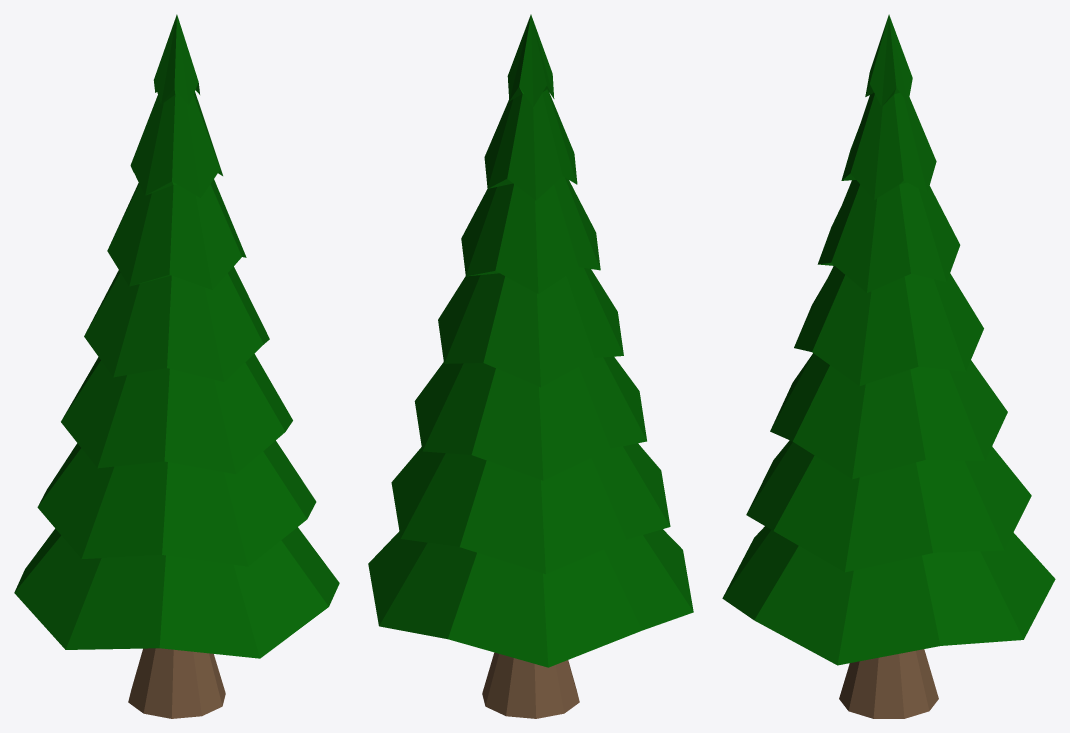
The model's file is low poly tree three.fbx.
3 views of the same model, side by side, from view 1: azimuth 30°, elevation 25°; view 2: azimuth 150°, elevation 25°; view 3: azimuth 270°, elevation 25° (orthographic).
Visible parts, largest first — view 1: tree; view 2: tree; view 3: tree.
Boxes of the visible parts, x1=… form: tree: x1=14, y1=14, x2=339, y2=718; tree: x1=368, y1=14, x2=693, y2=718; tree: x1=722, y1=14, x2=1055, y2=718.
Bounding box in the file's own units: 590 × 1406 × 620.
